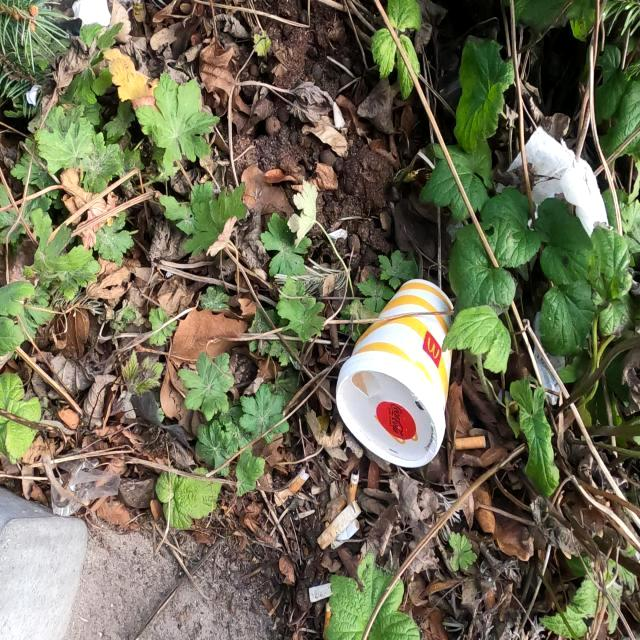Coffee Cup: (332, 272, 458, 472)
